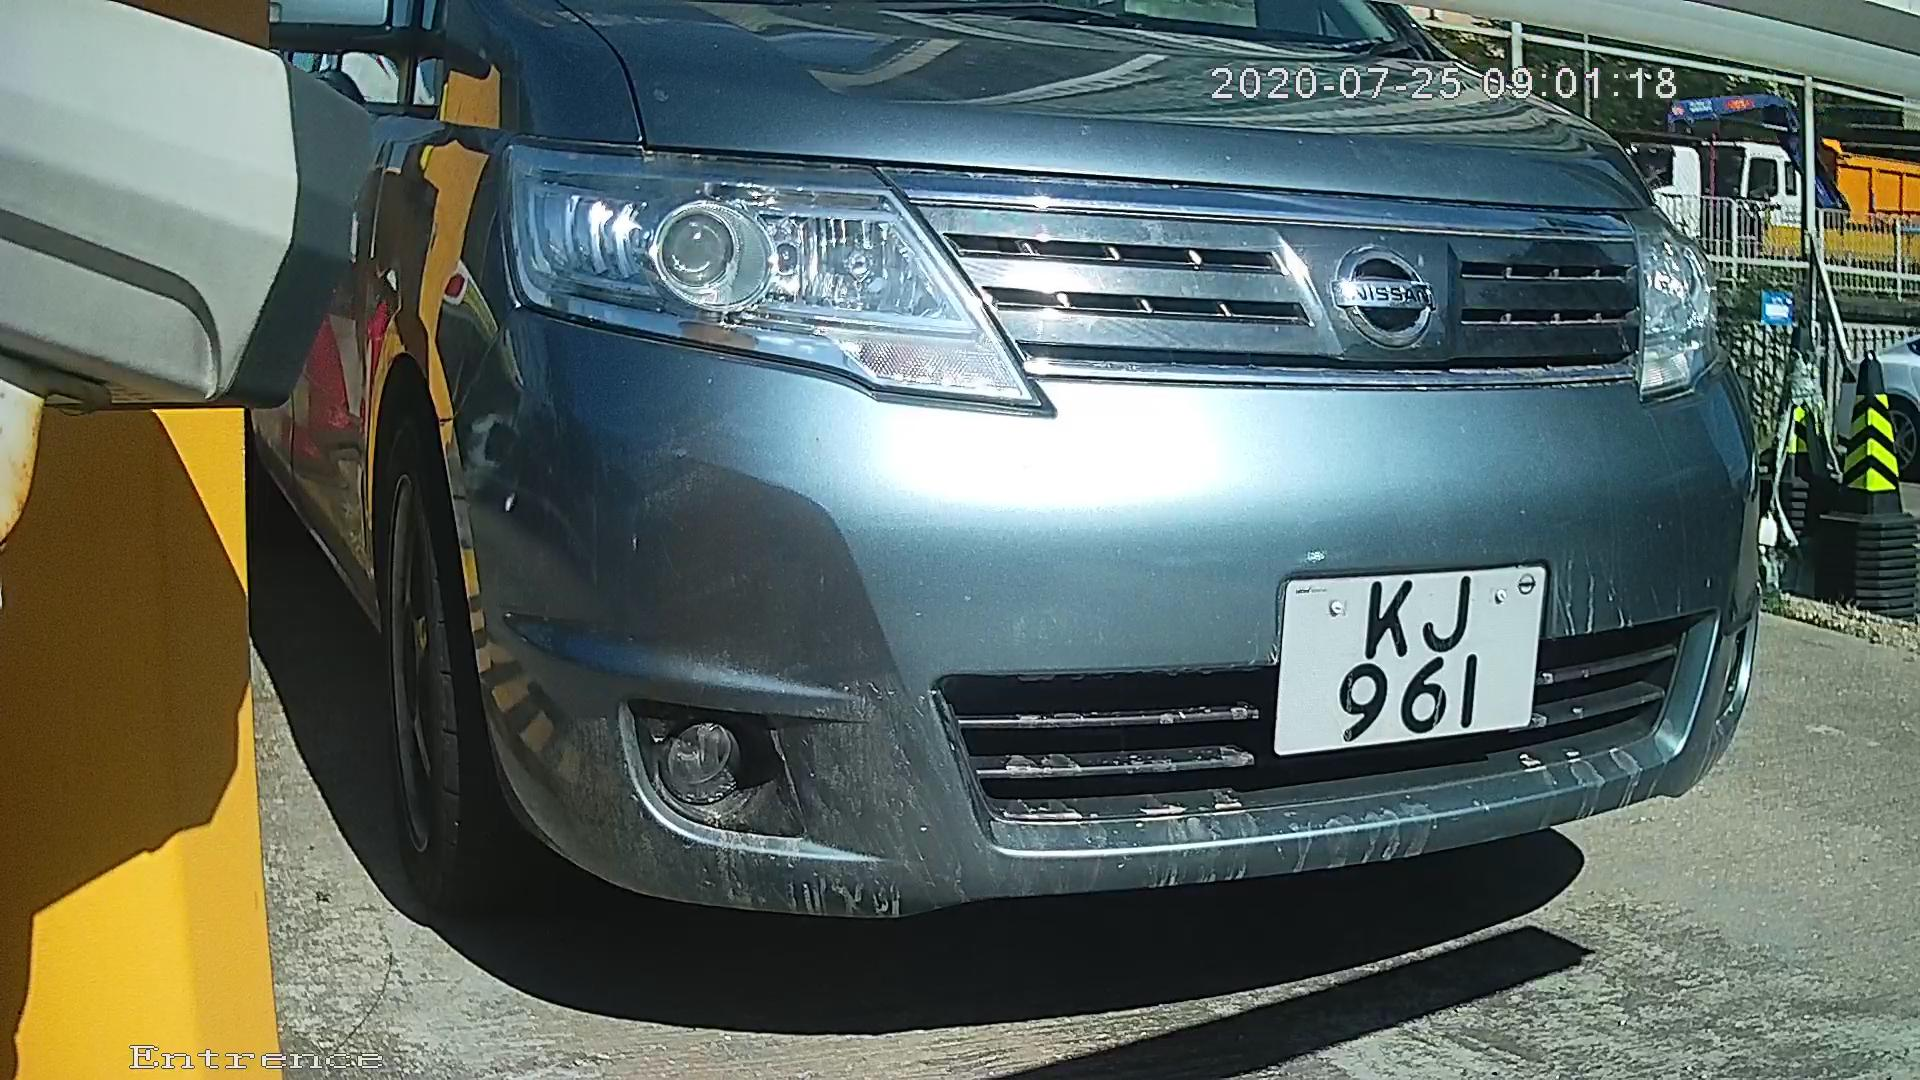License Plate: (1269, 541, 1552, 772)
